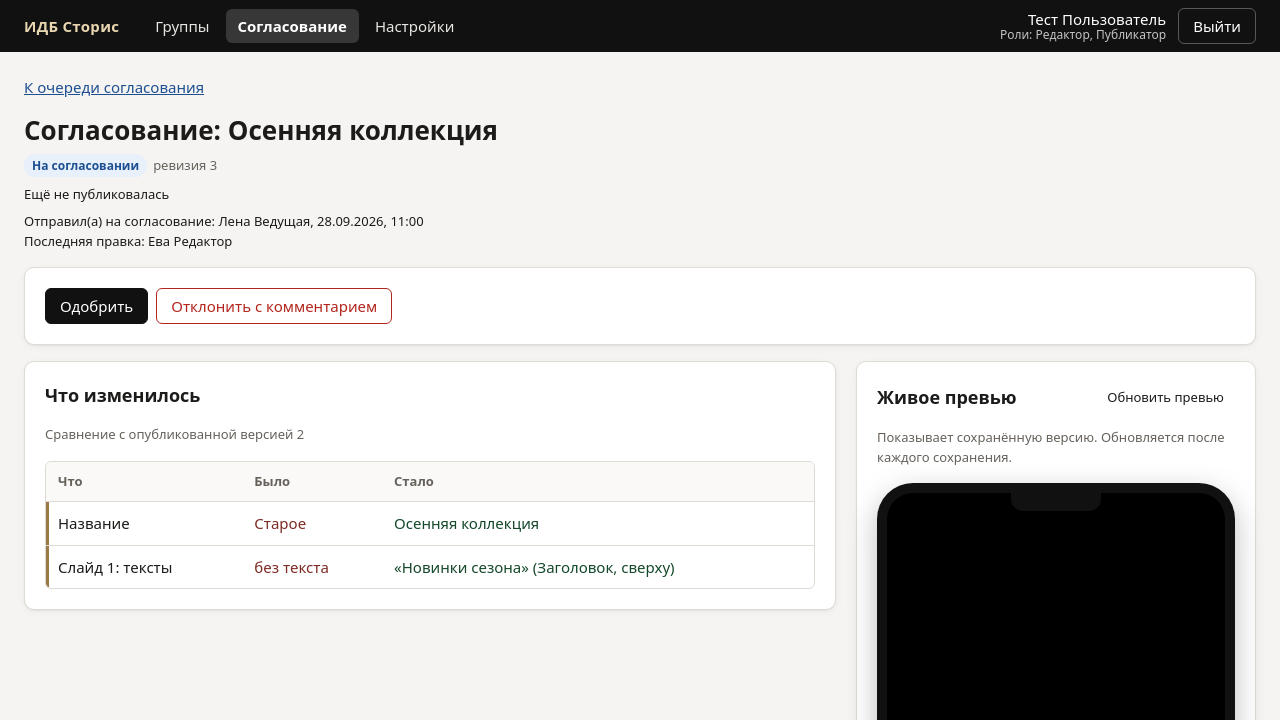
Scenario: Экран согласования › другой публикатор одобряет с текущей ревизией
The width and height of the screenshot is (1280, 720).
Step 1. Click the button "Одобрить" → (97, 306), box [45,288,148,324]
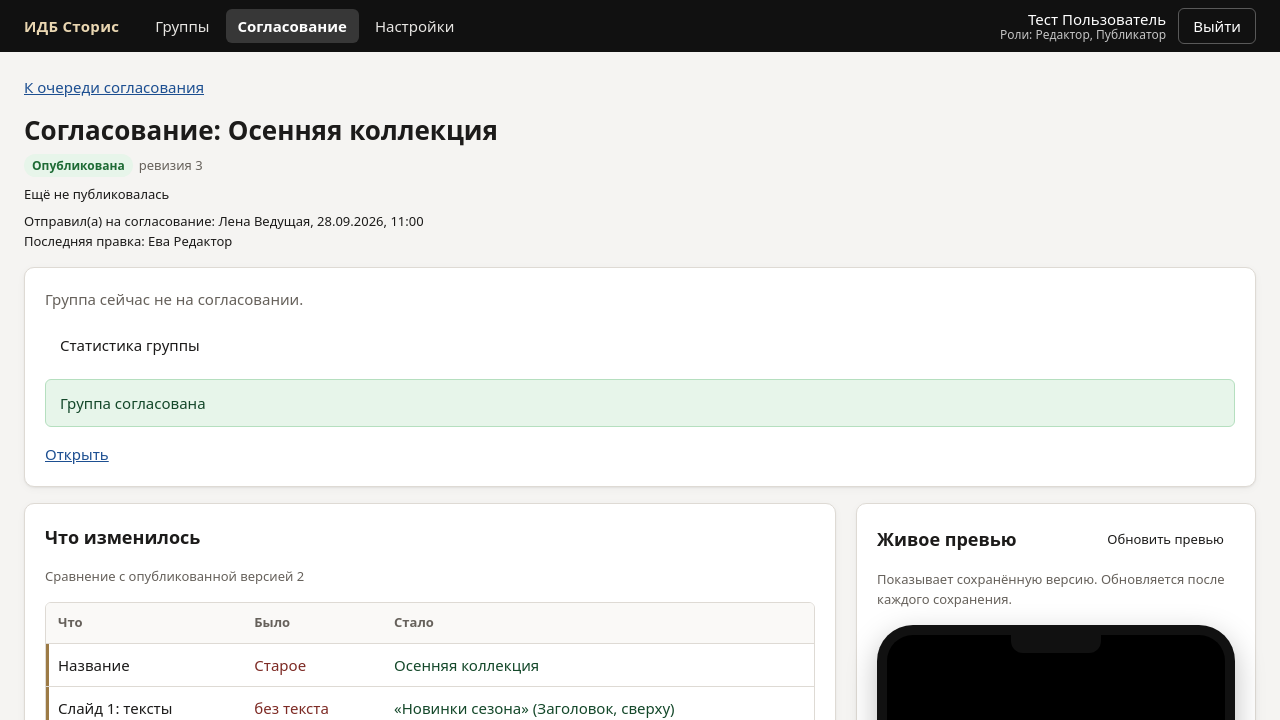
Expected: the text "Группа согласована" is shown, [45,379,1235,427]
